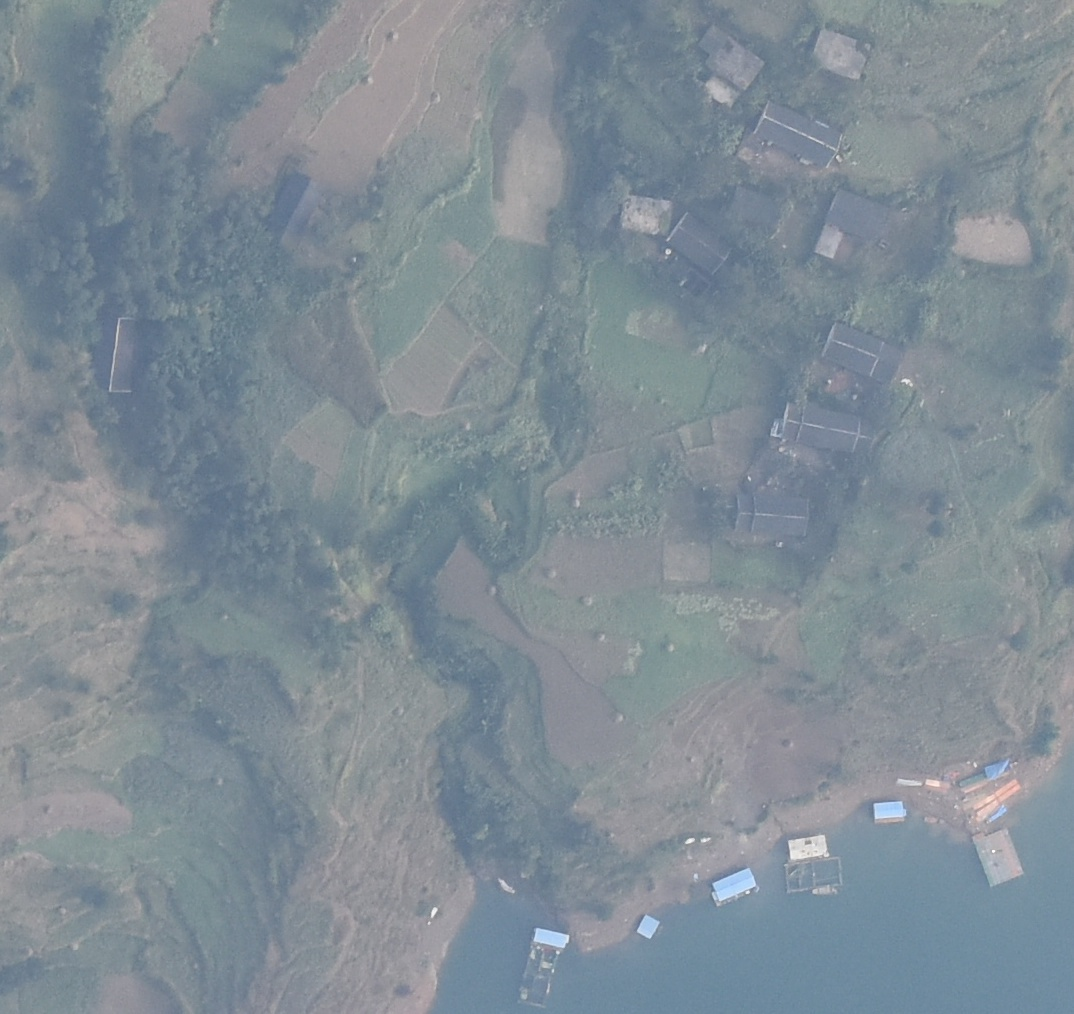building: (754, 100, 842, 168), (696, 26, 765, 108), (821, 319, 905, 385), (778, 401, 864, 456), (96, 309, 145, 396), (669, 212, 734, 274), (730, 491, 809, 539), (266, 172, 321, 238), (826, 187, 894, 240), (811, 26, 873, 82), (619, 192, 675, 236), (814, 224, 844, 260)
cultivation-mesh-cage: (522, 944, 558, 1007), (784, 857, 843, 892)
prefabricated-house: (973, 825, 1026, 887), (711, 868, 758, 903), (787, 835, 829, 859), (532, 925, 570, 949), (873, 800, 906, 823), (636, 915, 660, 939)
